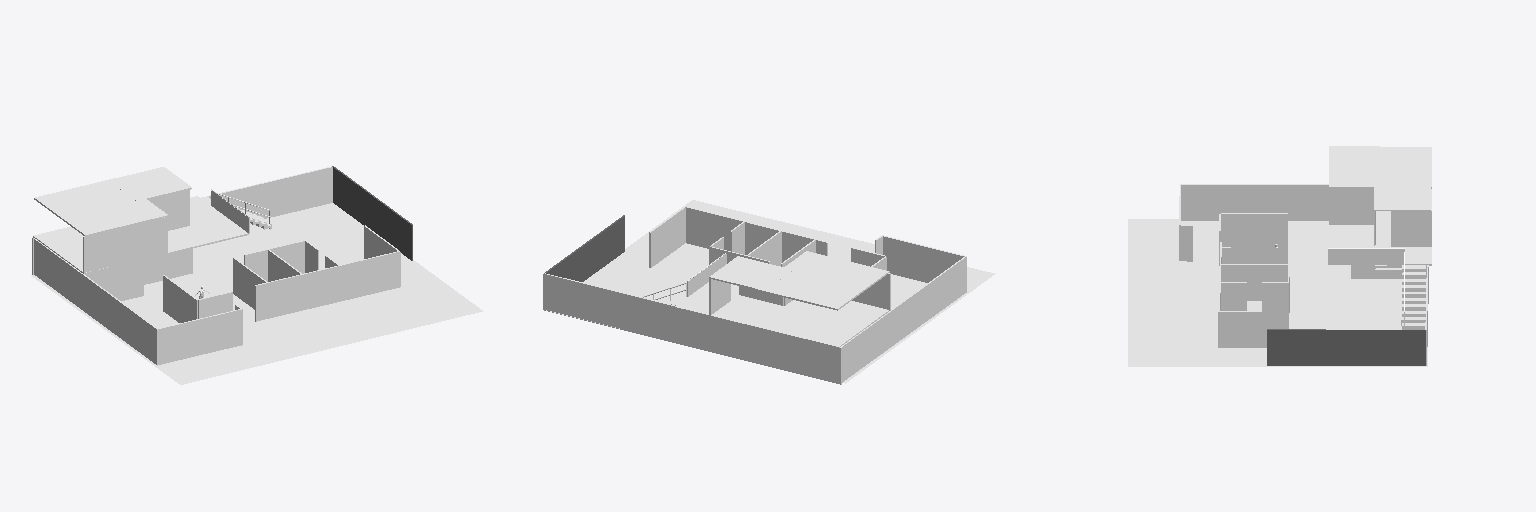
File: apto.obj
3 views of the same model, side by side, from view 1: azimuth 30°, elevation 25°; view 2: azimuth 150°, elevation 25°; view 3: azimuth 270°, elevation 25° (orthographic).
Parts seen in each view (by area): view 1: directionalLight7, directionalLight6 polySurface84, polySurface83 directionalLight6, directionalLight6 polySurface89; view 2: directionalLight7, directionalLight6 polySurface84; view 3: directionalLight7, directionalLight6 polySurface84, directionalLight6 polySurface89.
Part boxes in pixels (bbox=[...]): directionalLight7: bbox=[31, 166, 482, 384]; directionalLight6 polySurface84: bbox=[34, 238, 158, 365]; polySurface83 directionalLight6: bbox=[83, 260, 143, 300]; directionalLight6 polySurface89: bbox=[163, 275, 197, 322]; directionalLight7: bbox=[543, 200, 994, 384]; directionalLight6 polySurface84: bbox=[841, 256, 966, 382]; directionalLight7: bbox=[1128, 146, 1431, 366]; directionalLight6 polySurface84: bbox=[1180, 184, 1328, 220]; directionalLight6 polySurface89: bbox=[1221, 213, 1287, 247].
Size of the model in its own units: 2544 by 615 by 2214.